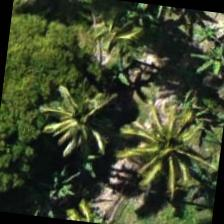Kelapa_Sawit: (115, 96, 215, 196), (31, 66, 131, 166), (60, 6, 160, 106)
